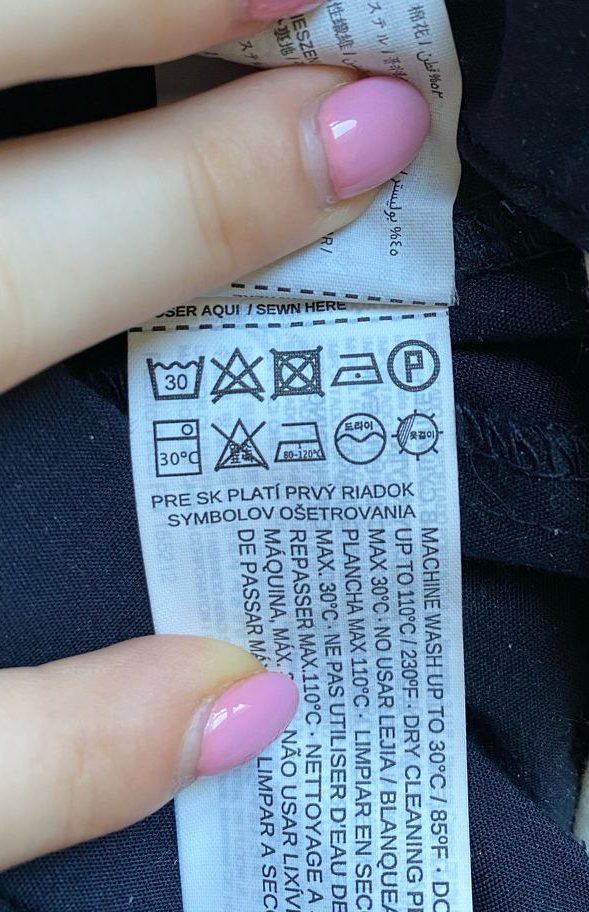do_not_bleach: (204, 342, 268, 406)
do_not_tumble_drying: (270, 342, 327, 401)
ironing_at_low_temp: (387, 338, 440, 393), (330, 346, 387, 391)
wash_at_or_below_30: (147, 352, 207, 404)
